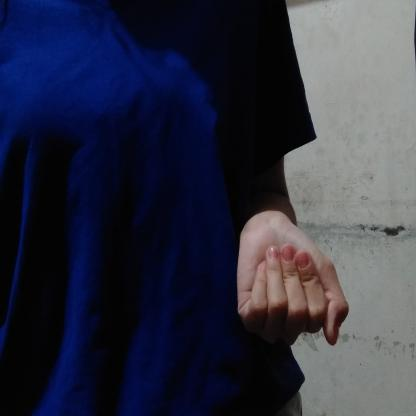where: (219, 205, 360, 359)
